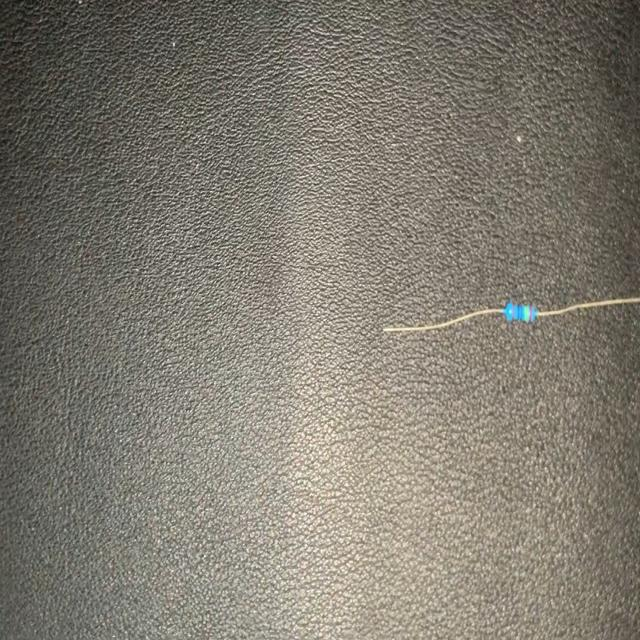resistor: (383, 287, 640, 343)
